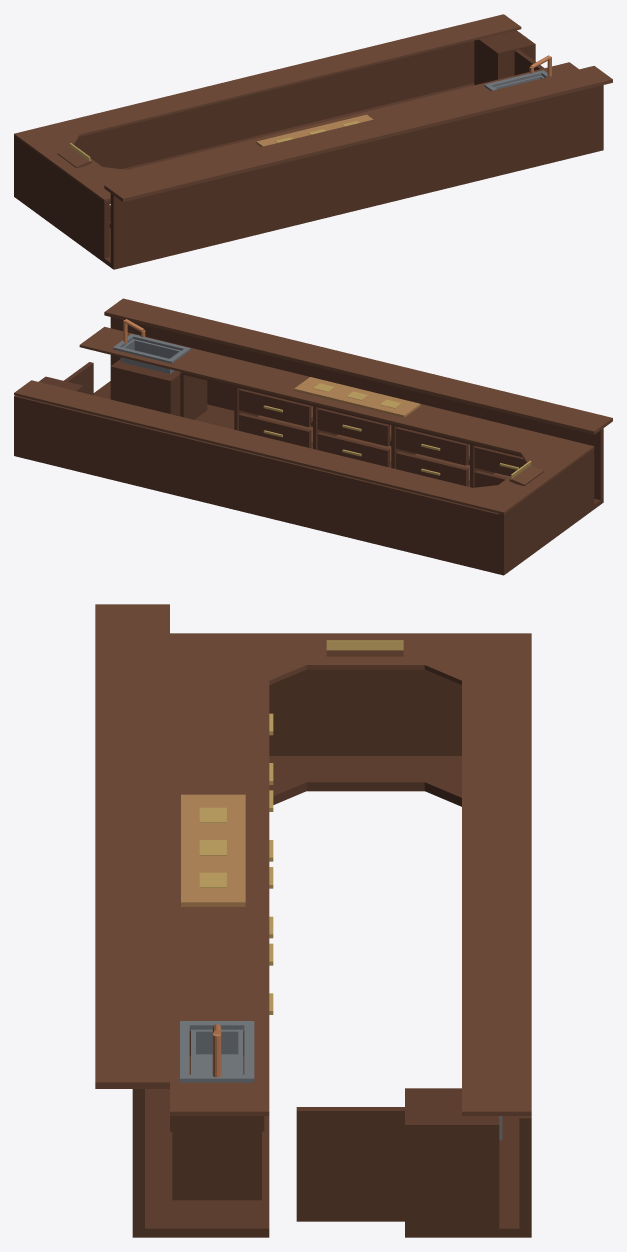
File: bar_counter.glb
3 renders of one model, top to bottom at view 1: azimuth 30°, elevation 25°; view 2: azimuth 150°, elevation 25°; view 3: azimuth 270°, elevation 25°, orthographic. The views are drawn at different scales.
Visible parts, largest first — view 1: bar_carcass_monolith, bar_worktop_monolith, guest_counter_top, bar_structural_base, waste_bin_body, workboard, employee_gate_leaf, manual_shelf_board, east_sink_rim; view 2: bar_carcass_monolith, bar_worktop_monolith, guest_counter_top, bar_structural_base, sink_base, workboard, front_drawer_3_upper_face, front_drawer_2_upper_face, front_drawer_4_upper_face, front_drawer_2_lower_face, front_drawer_3_lower_face, front_drawer_4_lower_face (+7 smaller); view 3: bar_worktop_monolith, guest_counter_top, bar_carcass_monolith, bar_structural_base, waste_bin_body, employee_gate_leaf, sink_base, workboard, east_sink_rim, east_sink_basin, manual_shelf_stop.
Part boxes in pixels (box(x1,y1,x2,y2)): bar_carcass_monolith: box(14, 40, 603, 264); bar_worktop_monolith: box(14, 14, 578, 201); guest_counter_top: box(104, 66, 612, 202); bar_structural_base: box(14, 83, 603, 269); waste_bin_body: box(474, 30, 535, 85); workboard: box(256, 114, 373, 146); employee_gate_leaf: box(514, 49, 544, 75); manual_shelf_board: box(57, 147, 91, 168); east_sink_rim: box(484, 70, 547, 90); bar_carcass_monolith: box(14, 317, 603, 570); bar_worktop_monolith: box(14, 326, 594, 514); guest_counter_top: box(104, 298, 612, 434); bar_structural_base: box(14, 381, 603, 575); sink_base: box(110, 359, 180, 416); workboard: box(294, 377, 420, 417); front_drawer_3_upper_face: box(317, 408, 389, 446); front_drawer_2_upper_face: box(396, 427, 468, 465); front_drawer_4_upper_face: box(239, 389, 311, 427); front_drawer_2_lower_face: box(396, 451, 468, 486); front_drawer_3_lower_face: box(317, 432, 389, 467); front_drawer_4_lower_face: box(239, 413, 311, 448); bar_worktop_monolith: box(170, 633, 531, 1115); guest_counter_top: box(95, 604, 169, 1088); bar_carcass_monolith: box(132, 669, 531, 1228); bar_structural_base: box(132, 756, 531, 1237); waste_bin_body: box(405, 1088, 499, 1237); employee_gate_leaf: box(296, 1107, 404, 1221); sink_base: box(172, 1056, 261, 1200); workboard: box(181, 794, 245, 906); east_sink_rim: box(180, 1021, 254, 1082); east_sink_basin: box(191, 1029, 243, 1074); manual_shelf_stop: box(326, 640, 403, 650).
Bounding box in the file's own units: 9.1 × 1.55 × 3.51.
